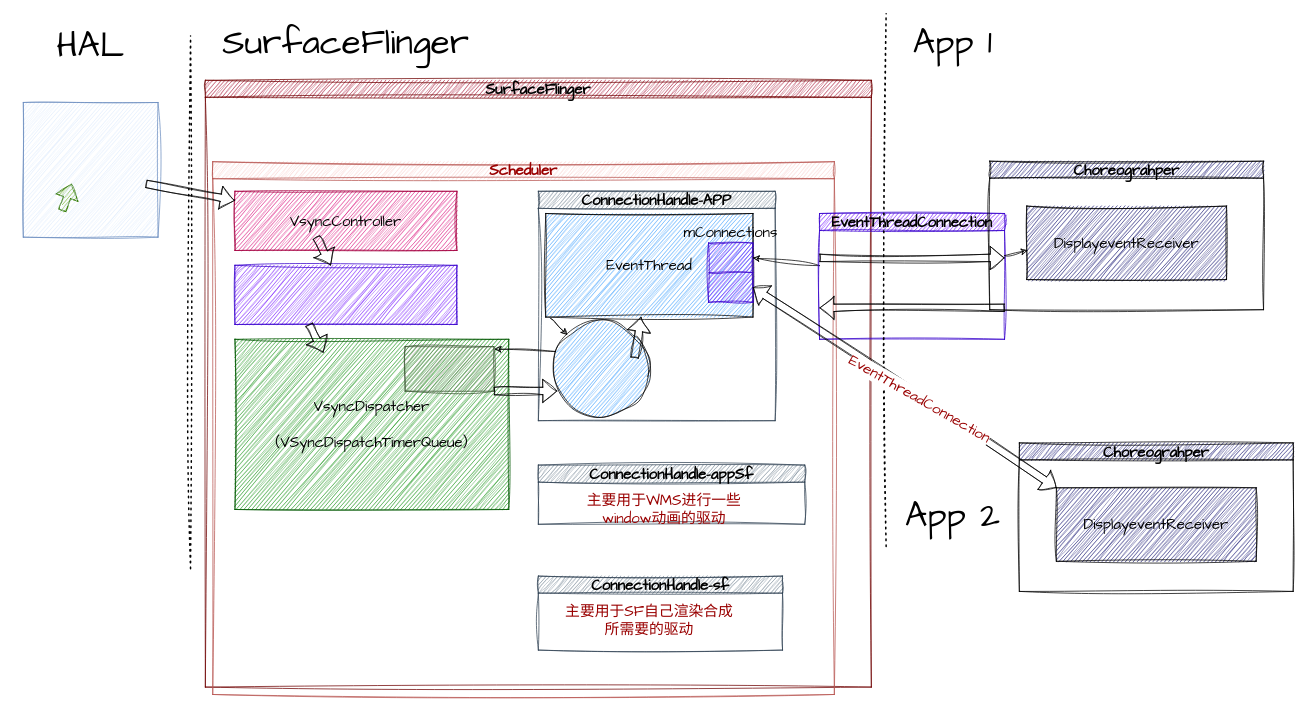
The diagram is 1306 pixels wide and 707 high, and some of its shapes have lost their labels. Here are the shapes that lost their labels. From the top down, the centre of each, then its label:
the point at 90,169: HWComposer
the point at 345,294: VSyncTracker (根据历史Vsync信号预测未来Vsync的时间)
the point at 449,368: mCallbacks
the point at 600,368: DispVsyncSource
